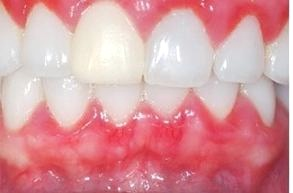Gingivitis: (68, 149, 242, 180), (153, 116, 190, 143), (103, 117, 135, 145)
